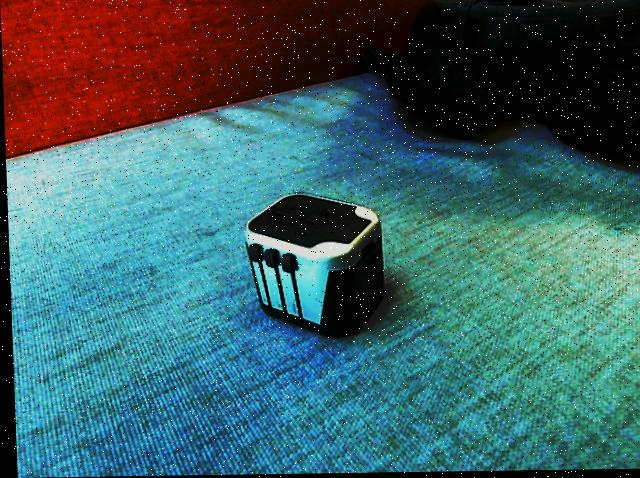adapter: (240, 192, 383, 339)
